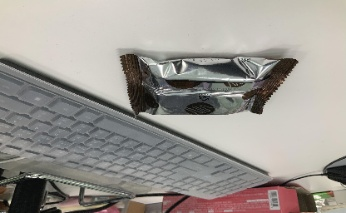mon: (116, 53, 300, 122)
